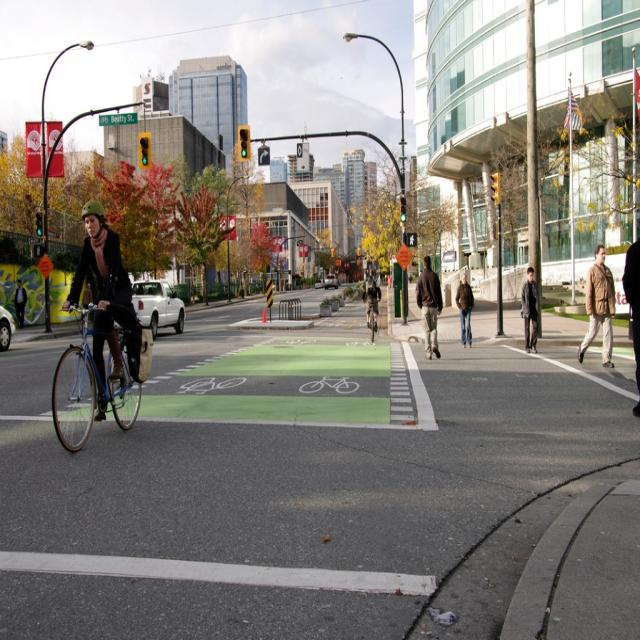traffic light: (138, 132, 152, 170), (239, 125, 251, 164), (34, 213, 43, 237), (400, 197, 407, 221)
